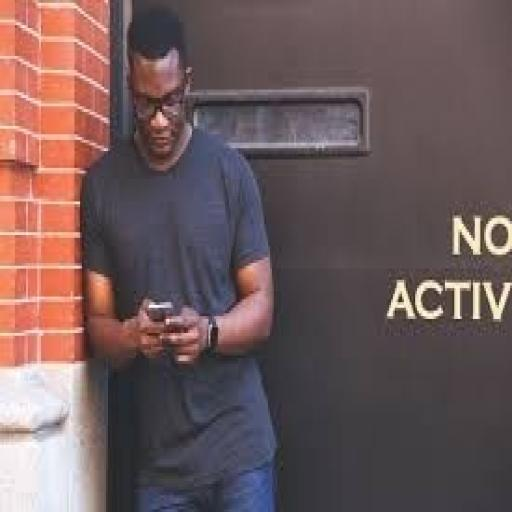texting: (78, 3, 283, 509)
